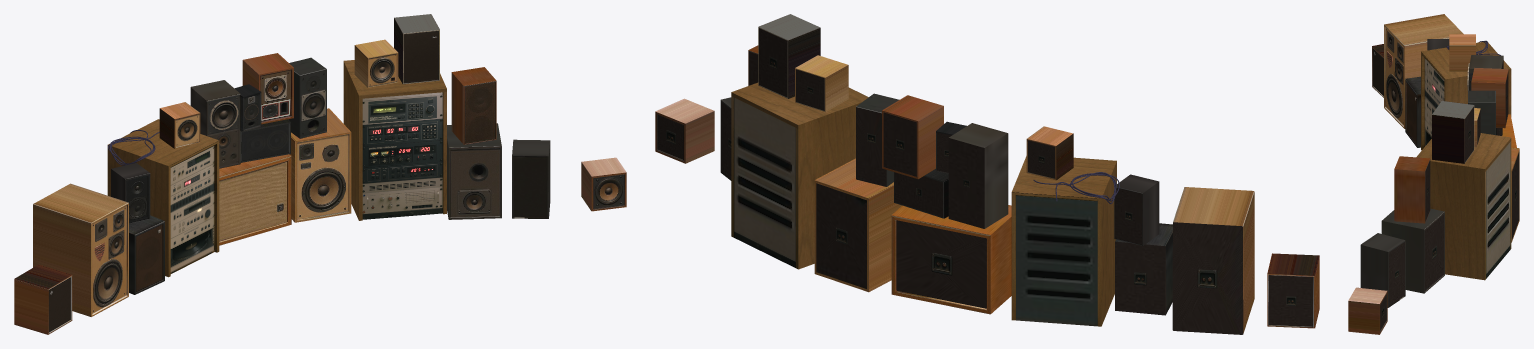
Rendered from speakers.glb.
3 renders of one model, left to right at view 1: azimuth 30°, elevation 25°; view 2: azimuth 150°, elevation 25°; view 3: azimuth 270°, elevation 25°, orthographic. The views are drawn at different scales.
Parts seen in each view (by area): view 1: AudioRack2.Scaled, speaker.002, AudioRack01.Scaled, Speaker.007, speaker.003, Speaker.011, Speaker.013, Speaker.008, Speaker.015, Speaker.012, Speaker.014, Speaker.010 (+9 smaller); view 2: AudioRack2.Scaled, AudioRack01.Scaled, speaker.002, speaker.003, Speaker.007, Speaker.015, speaker.001, Speaker.010, Speaker.013, Speaker.014, speaker.004, Speaker.018 (+7 smaller); view 3: AudioRack2.Scaled, speaker.002, Speaker.011, AudioRack01.Scaled, Speaker.012, Speaker.014, Speaker.008, speaker.004, Speaker.010, speaker.001, Speaker.006, Speaker.005 (+6 smaller).
Part boxes in pixels (x1,y1,x2,y2): AudioRack2.Scaled: [343, 60, 446, 220]; speaker.002: [33, 183, 128, 316]; AudioRack01.Scaled: [107, 119, 219, 277]; Speaker.007: [289, 108, 351, 222]; speaker.003: [219, 154, 291, 245]; Speaker.011: [447, 123, 501, 219]; Speaker.013: [14, 264, 72, 334]; Speaker.008: [451, 67, 496, 144]; Speaker.015: [190, 80, 240, 168]; Speaker.012: [512, 139, 550, 218]; Speaker.014: [394, 14, 439, 84]; Speaker.010: [242, 53, 293, 124]; AudioRack2.Scaled: [731, 82, 868, 269]; AudioRack01.Scaled: [1011, 156, 1116, 326]; speaker.002: [1172, 187, 1254, 334]; speaker.003: [891, 205, 1011, 314]; Speaker.007: [814, 158, 901, 292]; Speaker.015: [948, 123, 1008, 228]; speaker.001: [1115, 223, 1172, 315]; Speaker.010: [882, 95, 943, 179]; Speaker.013: [1267, 253, 1319, 328]; Speaker.014: [758, 14, 820, 98]; speaker.004: [655, 98, 714, 163]; Speaker.018: [1114, 174, 1159, 245]; AudioRack2.Scaled: [1416, 133, 1511, 280]; speaker.002: [1384, 14, 1463, 128]; Speaker.011: [1381, 208, 1444, 293]; AudioRack01.Scaled: [1421, 42, 1511, 150]; Speaker.012: [1360, 233, 1405, 307]; Speaker.014: [1432, 101, 1474, 163]; Speaker.008: [1394, 156, 1430, 223]; speaker.004: [1348, 287, 1387, 334]; Speaker.010: [1471, 68, 1508, 128]; speaker.001: [1405, 76, 1420, 147]; Speaker.006: [1449, 34, 1475, 71]; Speaker.005: [1468, 90, 1495, 135].
Bounding box in the file's own units: 6.93 × 1.99 × 1.98.
Materials: 4 (3 with a texture image).
